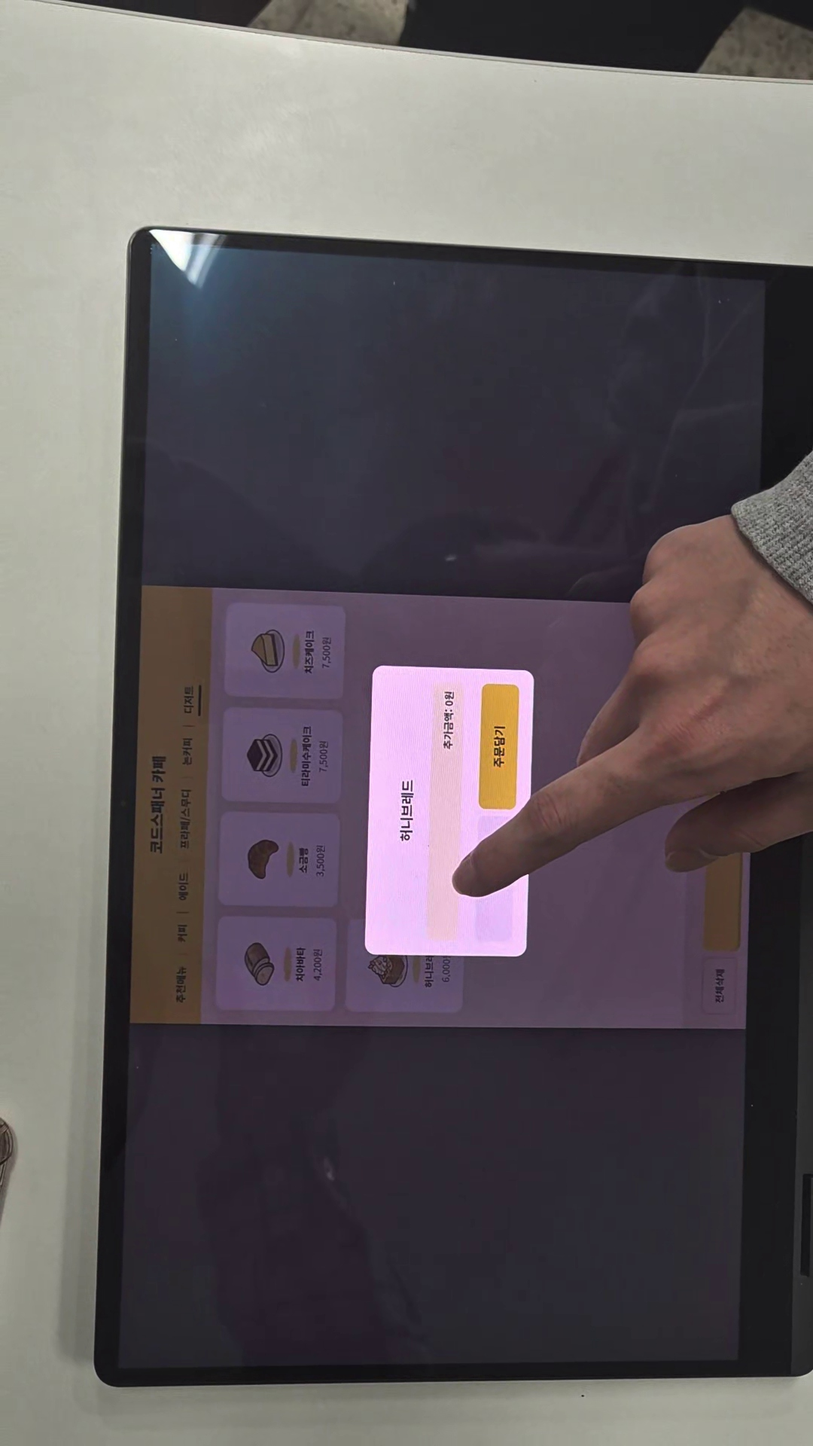action_button: (480, 680, 518, 810), (477, 817, 516, 940)
popup_modal: (370, 663, 532, 958)
